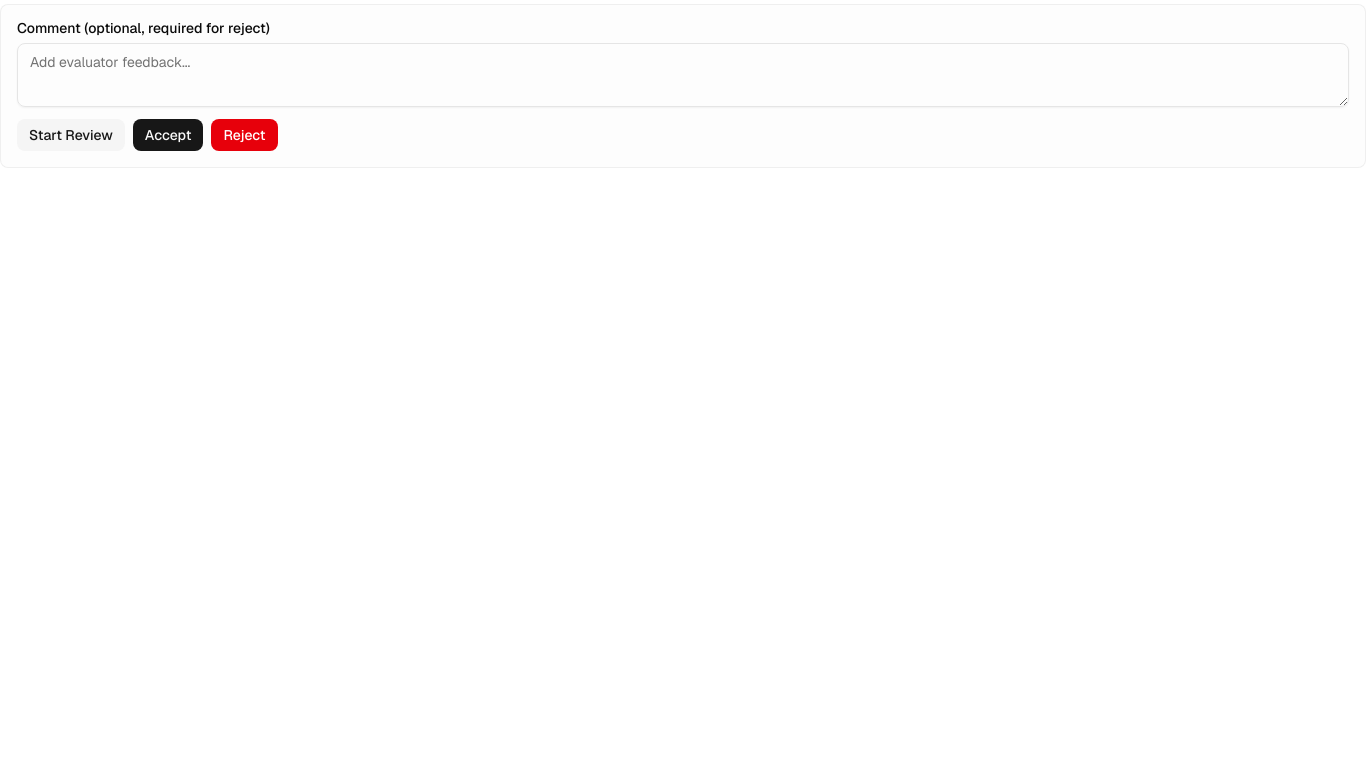
AdminActions component › shows toast error when rejecting without comment
The width and height of the screenshot is (1366, 768).
Note: Open the AlertDialog
Click the button "Reject".
click(245, 135)  # box x1=212 y1=119 x2=278 y2=151
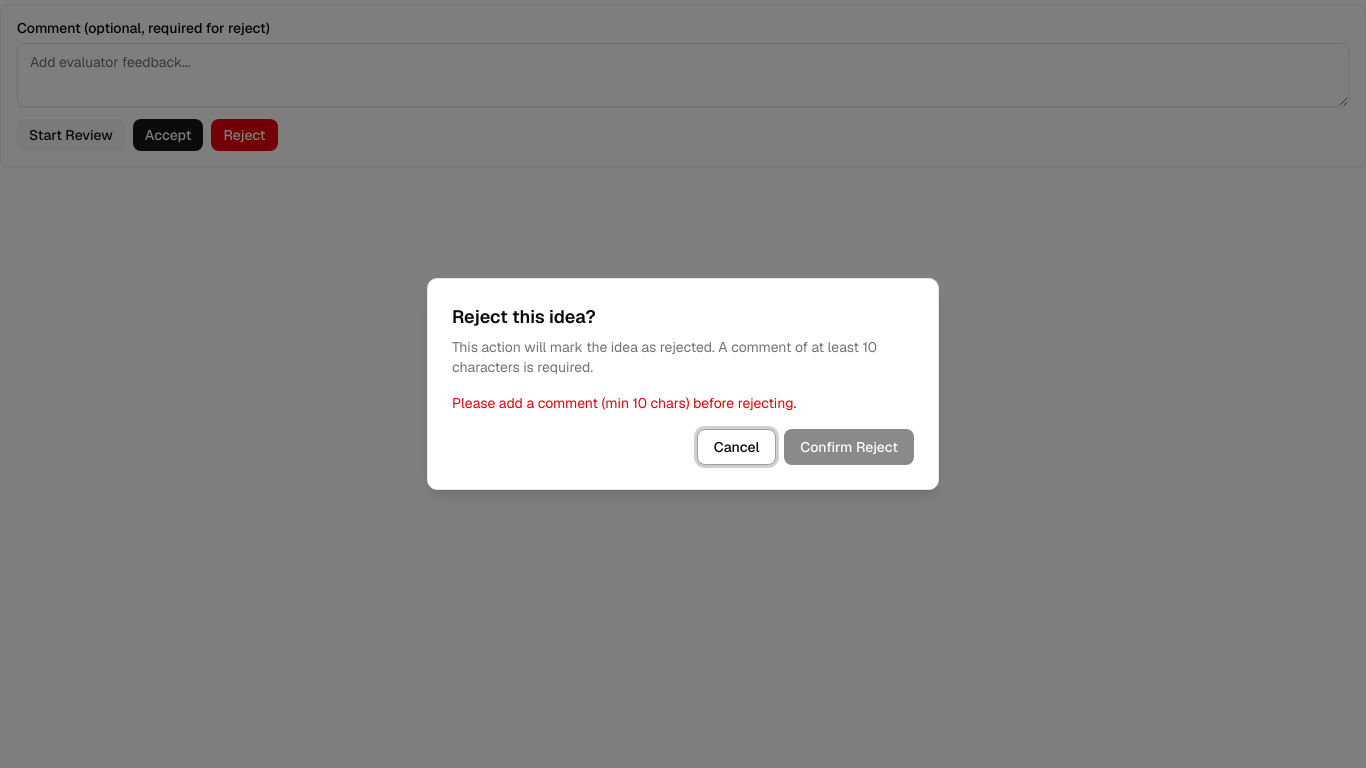
Check: the heading "Reject this idea?" is shown, box x1=452 y1=303 x2=596 y2=331
Check: the button "Confirm Reject" is disabled, box x1=784 y1=429 x2=914 y2=465
